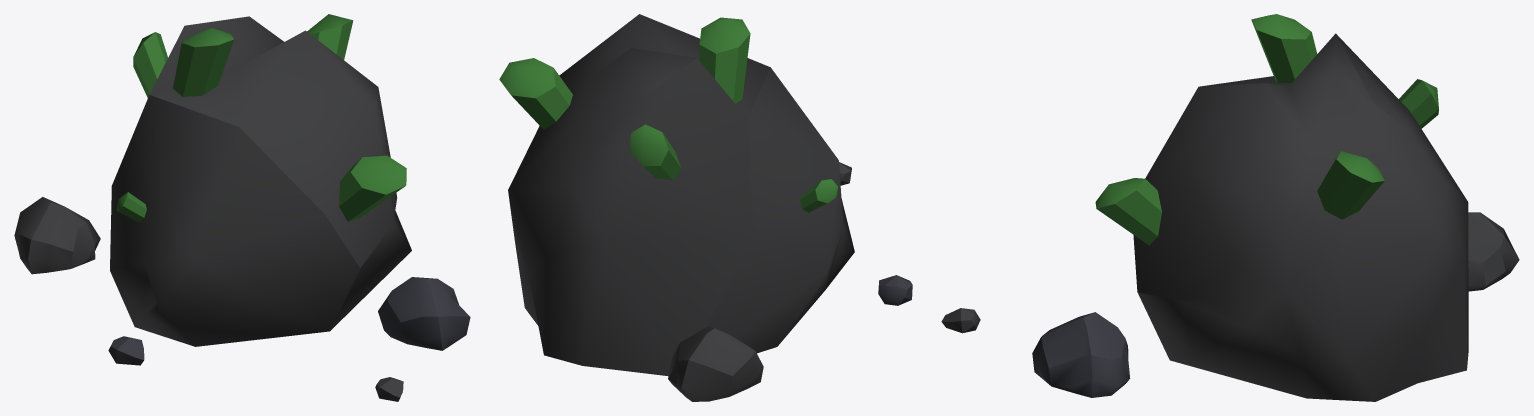
Rendered from hallie_ores_emerald_NEW.fbx.
3 renders of one model, left to right at view 1: azimuth 30°, elevation 25°; view 2: azimuth 150°, elevation 25°; view 3: azimuth 270°, elevation 25°, orthographic. The views are drawn at different scales.
Visible parts, largest first — view 1: m_oreRock4, m_oreRock6, m_oreRock5, m_emeraldGem3, m_emeraldGem, m_emeraldGem1, m_emeraldGem4, m_oreRock8, m_emeraldGem2, m_oreRock7; view 2: m_oreRock4, m_oreRock5, m_emeraldGem4, m_emeraldGem, m_emeraldGem1, m_oreRock8, m_emeraldGem2; view 3: m_oreRock4, m_oreRock6, m_emeraldGem, m_emeraldGem3, m_emeraldGem4, m_oreRock5, m_emeraldGem1, m_oreRock7.
Part boxes in pixels (<box>): m_oreRock4: <box>110,16,411,346</box>; m_oreRock6: <box>378,277,470,350</box>; m_oreRock5: <box>14,197,100,274</box>; m_emeraldGem3: <box>339,155,406,221</box>; m_emeraldGem: <box>173,28,233,96</box>; m_emeraldGem1: <box>133,32,167,97</box>; m_emeraldGem4: <box>307,14,353,59</box>; m_oreRock8: <box>108,336,144,365</box>; m_emeraldGem2: <box>117,192,146,222</box>; m_oreRock7: <box>375,377,403,401</box>; m_oreRock4: <box>508,14,854,376</box>; m_oreRock5: <box>668,326,763,401</box>; m_emeraldGem4: <box>499,58,572,129</box>; m_emeraldGem: <box>699,17,750,103</box>; m_emeraldGem1: <box>629,124,681,180</box>; m_oreRock8: <box>878,275,912,305</box>; m_emeraldGem2: <box>800,179,838,212</box>; m_oreRock4: <box>1133,33,1468,401</box>; m_oreRock6: <box>1032,312,1130,397</box>; m_emeraldGem: <box>1251,14,1317,82</box>; m_emeraldGem3: <box>1095,178,1161,245</box>; m_emeraldGem4: <box>1317,151,1384,219</box>; m_oreRock5: <box>1468,212,1519,291</box>; m_emeraldGem1: <box>1399,79,1438,128</box>; m_oreRock7: <box>941,308,980,333</box>.
Size of the model in its own units: 0.8549 by 0.7613 by 1.25.
